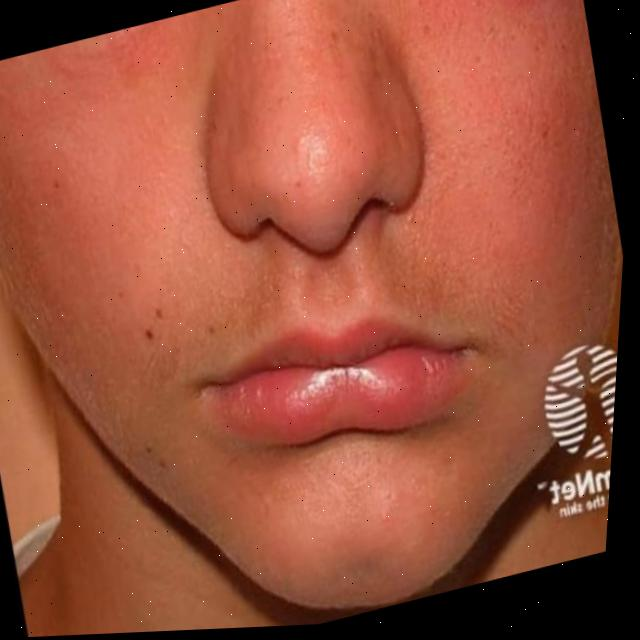Eczema: (0, 42, 141, 475), (511, 37, 636, 342)
